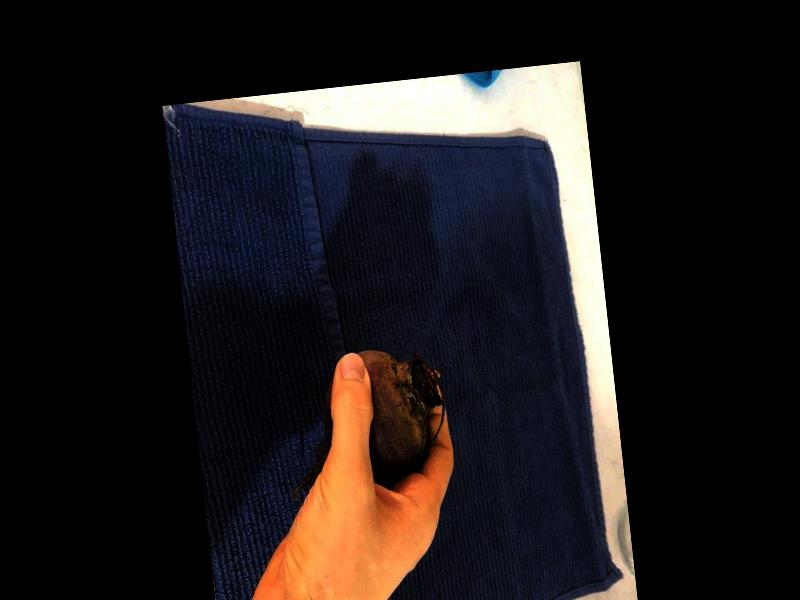Beet: (275, 341, 451, 494)
